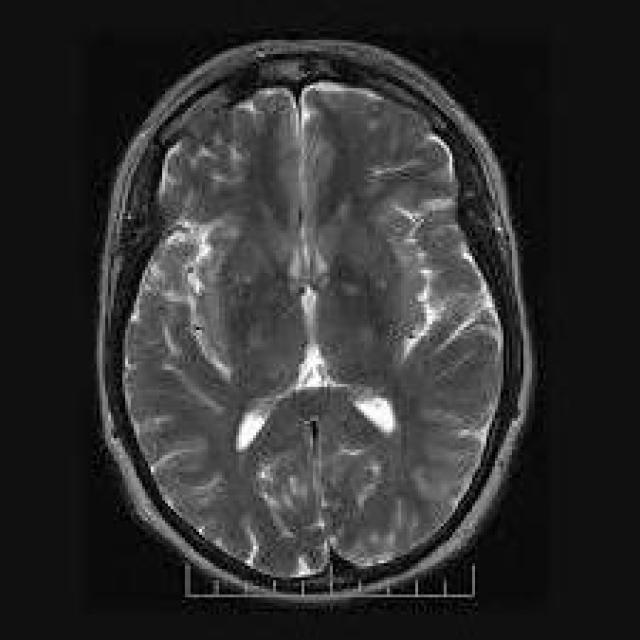notumor: (100, 40, 532, 600)
